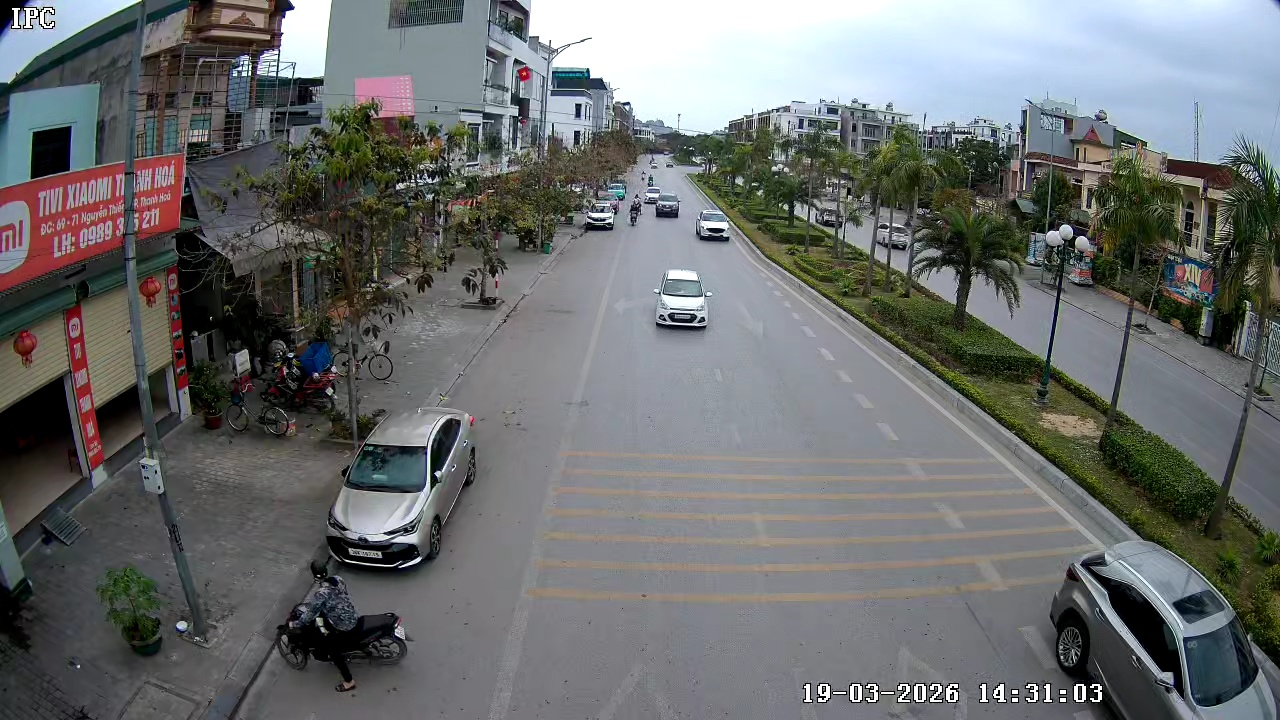bike: (351, 324, 396, 383)
car: (1047, 539, 1279, 719), (326, 405, 479, 570), (653, 267, 714, 330), (692, 208, 732, 241), (582, 204, 617, 231), (655, 189, 681, 219)
motorbike: (275, 556, 412, 686), (627, 194, 641, 226)
